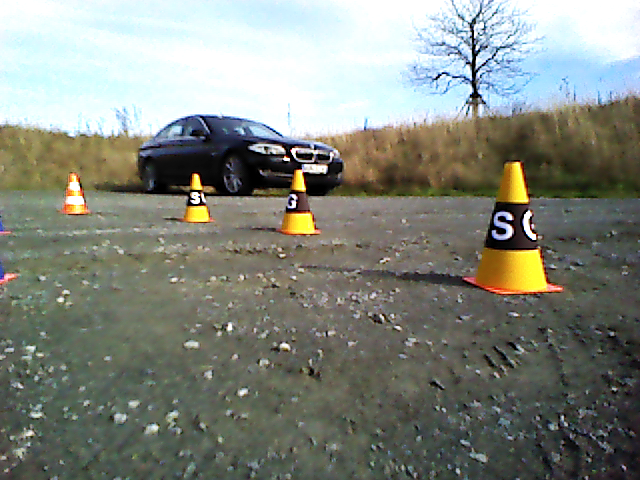orangeconesmall: (61, 174, 87, 215)
yellowcone: (478, 162, 546, 286), (281, 170, 316, 232), (185, 173, 209, 221)
